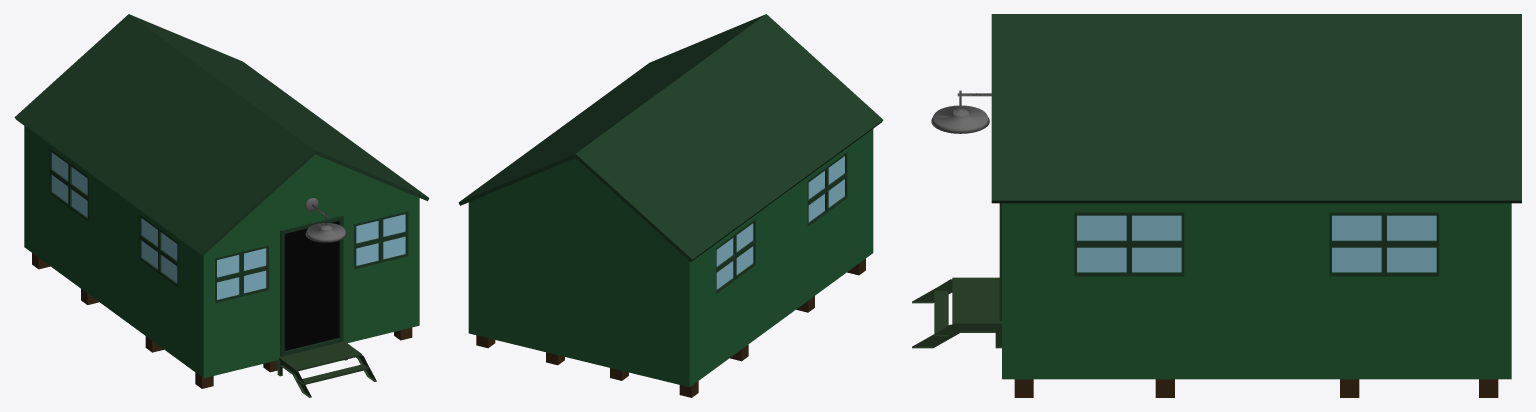
Rendered from Barracks.fbx.
3 views of the same model, side by side, from view 1: azimuth 30°, elevation 25°; view 2: azimuth 150°, elevation 25°; view 3: azimuth 270°, elevation 25° (orthographic). The views are drawn at different scales.
Visible parts, largest first — view 1: Barracks; view 2: Barracks; view 3: Barracks.
Part boxes in pixels (<box>): Barracks: <box>14,14,429,397</box>; Barracks: <box>458,14,883,397</box>; Barracks: <box>912,14,1521,397</box>.
Size of the model in its own units: 0.0736 by 0.0673 by 0.1196.
1 material, 1 textured.
